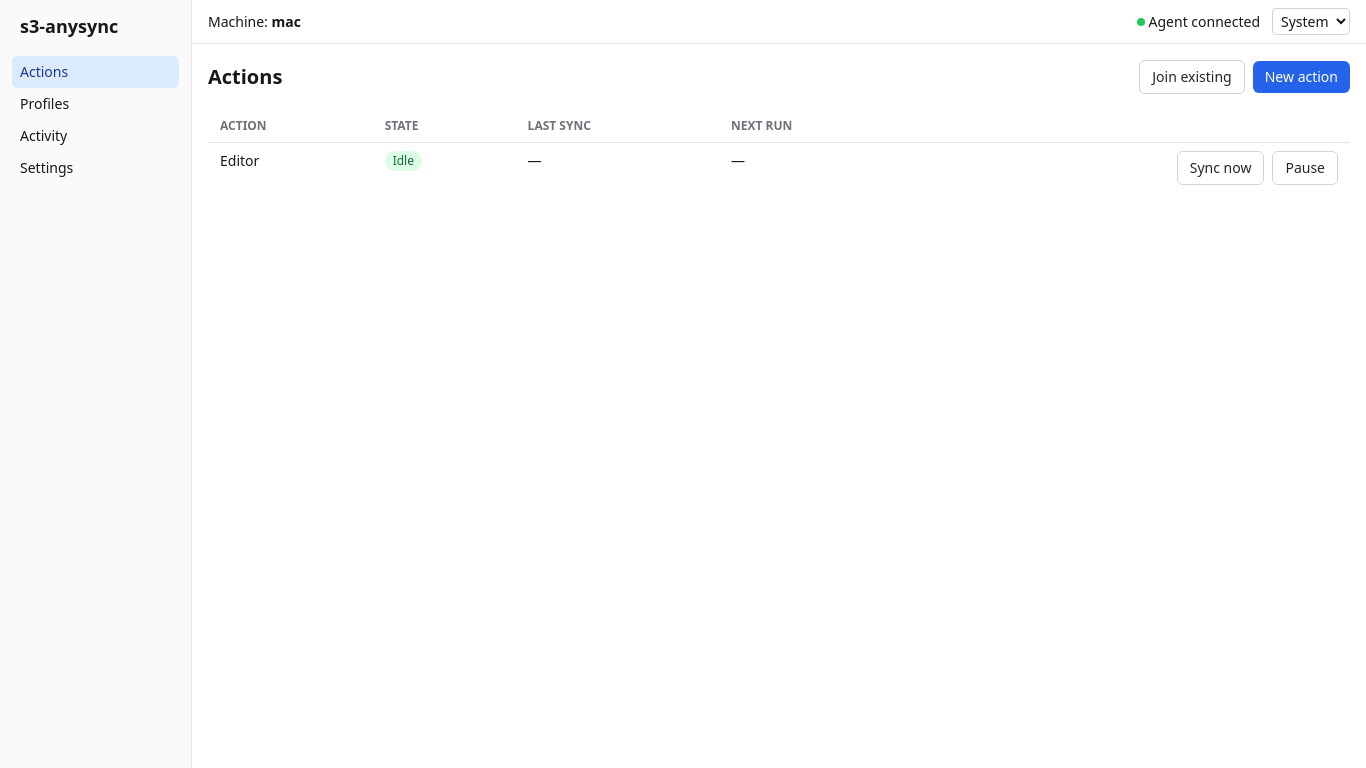
a sync cannot be started twice while one is being requested
Click the button with aria-label "Sync now Editor": (1221, 168) [1177,151,1264,185]
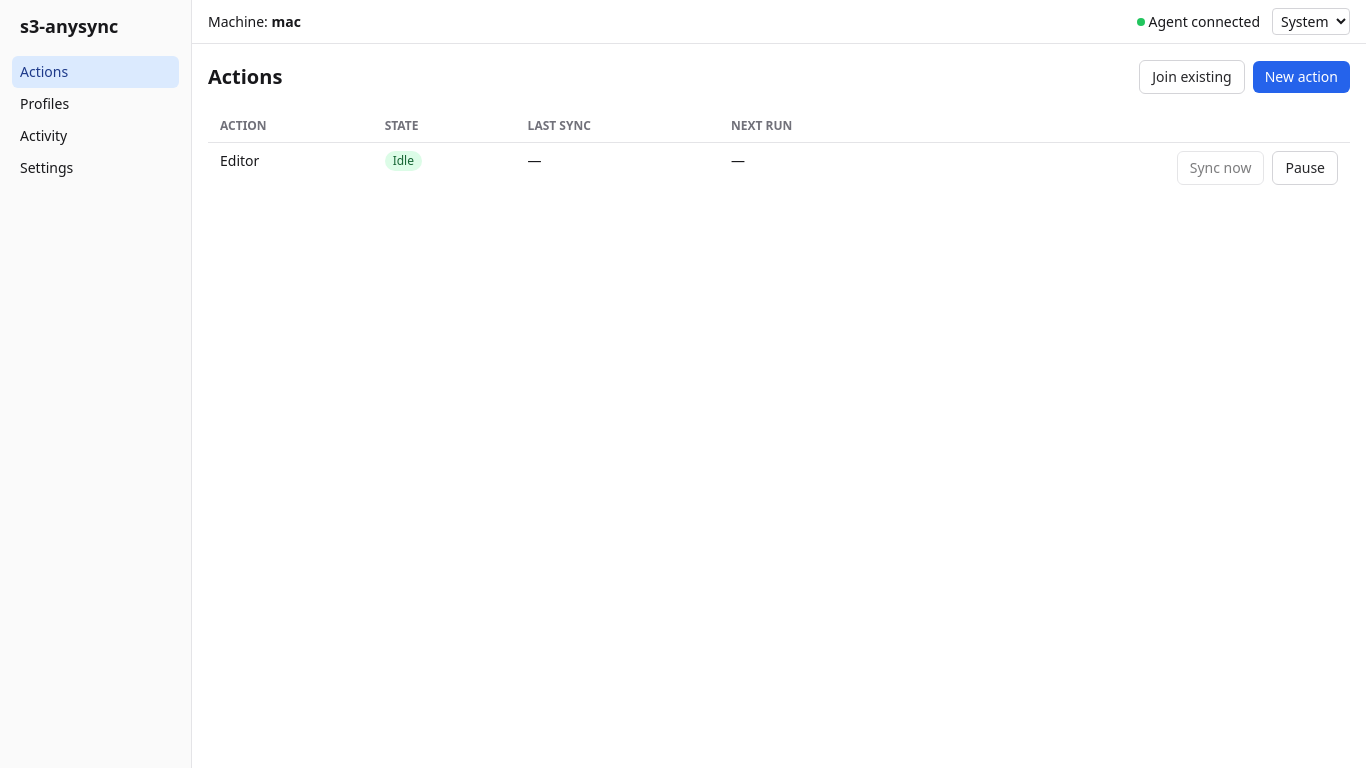
Expected: the button with aria-label "Sync now Editor" is disabled
Click the button with aria-label "Sync now Editor": (1221, 168) [1177,151,1264,185]
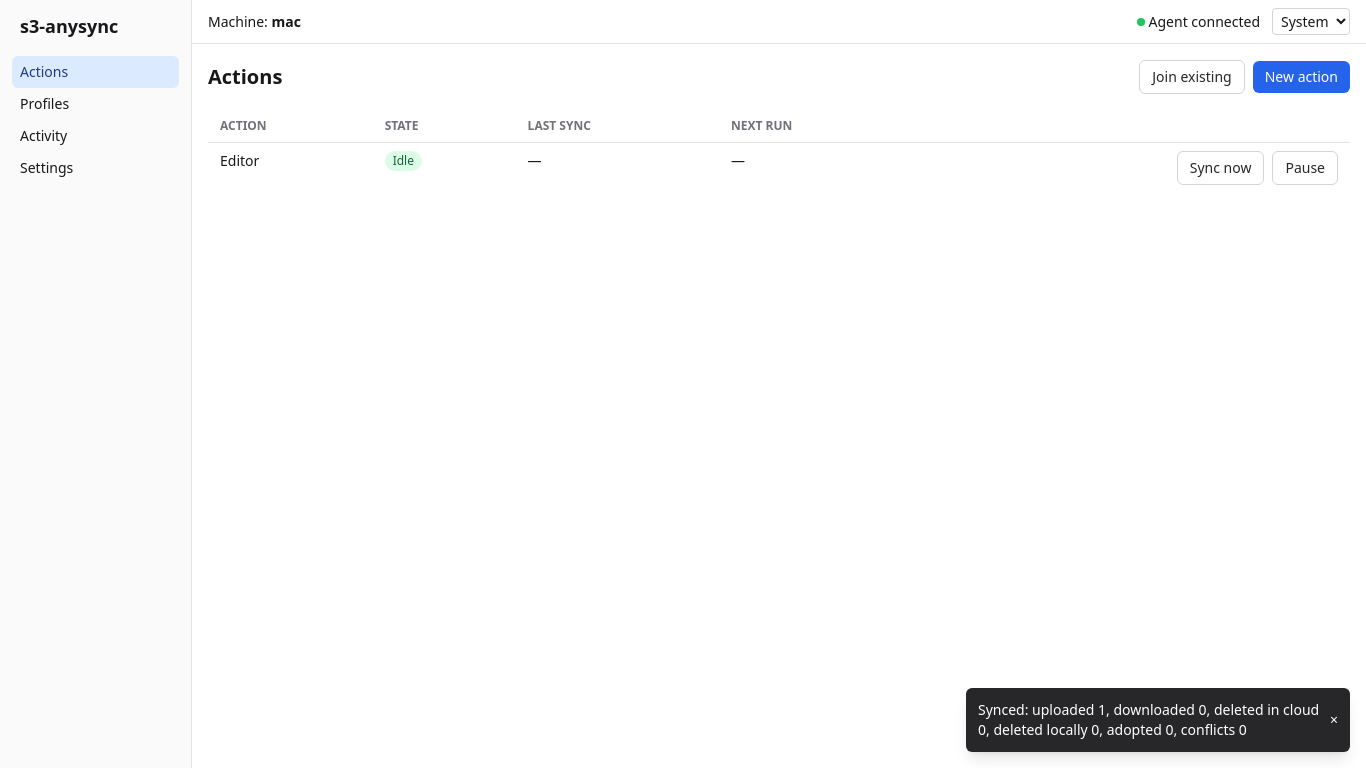
Expected: the text "Synced: uploaded 1" is shown, [978,700,1319,739]
